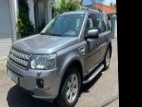car: (3, 5, 116, 107)
